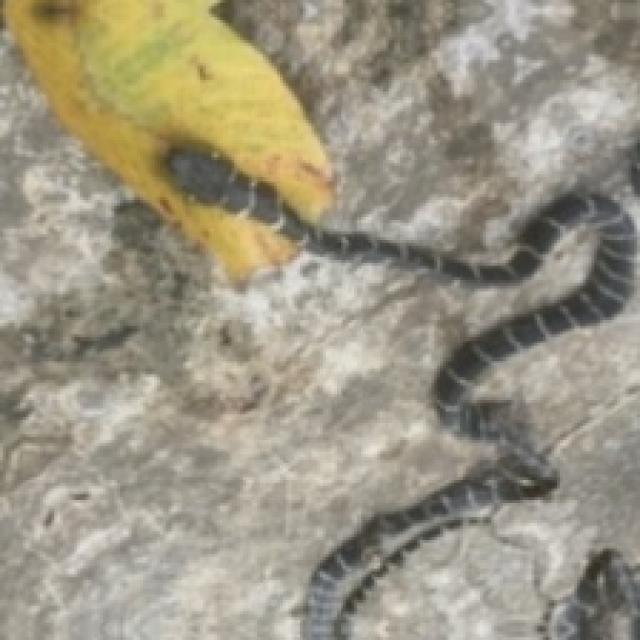mangrove cat snake: (170, 151, 634, 639)
